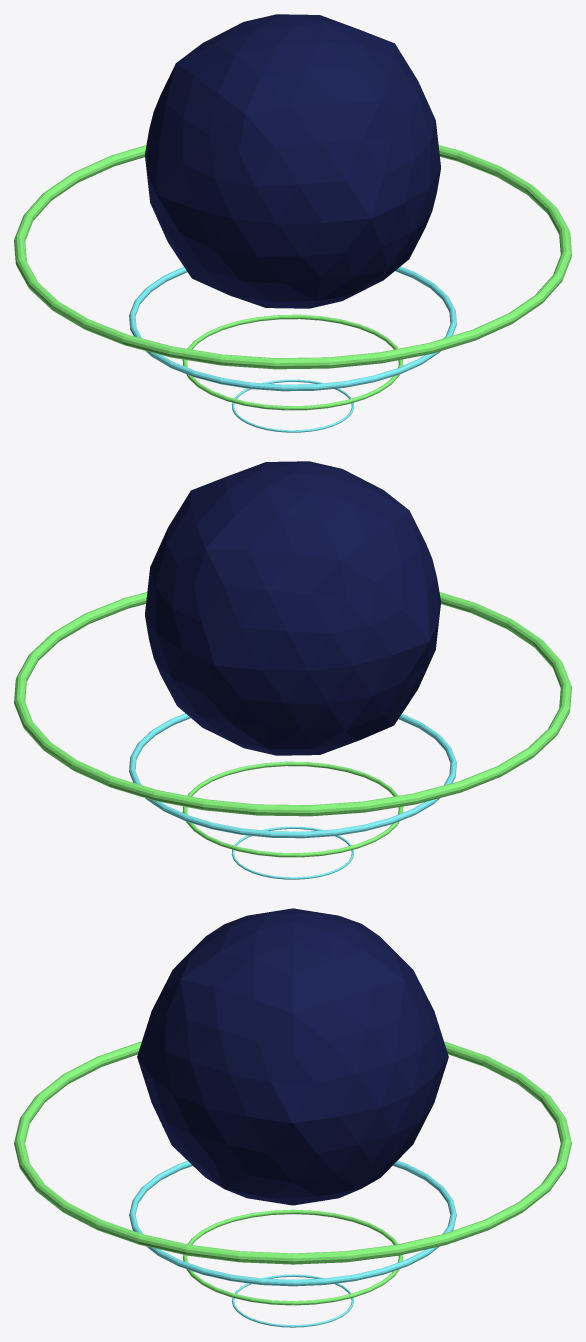
File: balance star down_st3.fbx
3 views of the same model, one above another, from view 1: azimuth 30°, elevation 25°; view 2: azimuth 150°, elevation 25°; view 3: azimuth 270°, elevation 25° (orthographic).
Visible parts, largest first — view 1: flat_art_ring__out_001; view 2: flat_art_ring__out_001; view 3: flat_art_ring__out_001.
Part boxes in pixels (x1,y1,x2,y2): flat_art_ring__out_001: [14, 14, 571, 432]; flat_art_ring__out_001: [14, 461, 571, 879]; flat_art_ring__out_001: [14, 908, 571, 1327].
Bounding box in the file's own units: 91.72 × 68.9 × 91.72.
